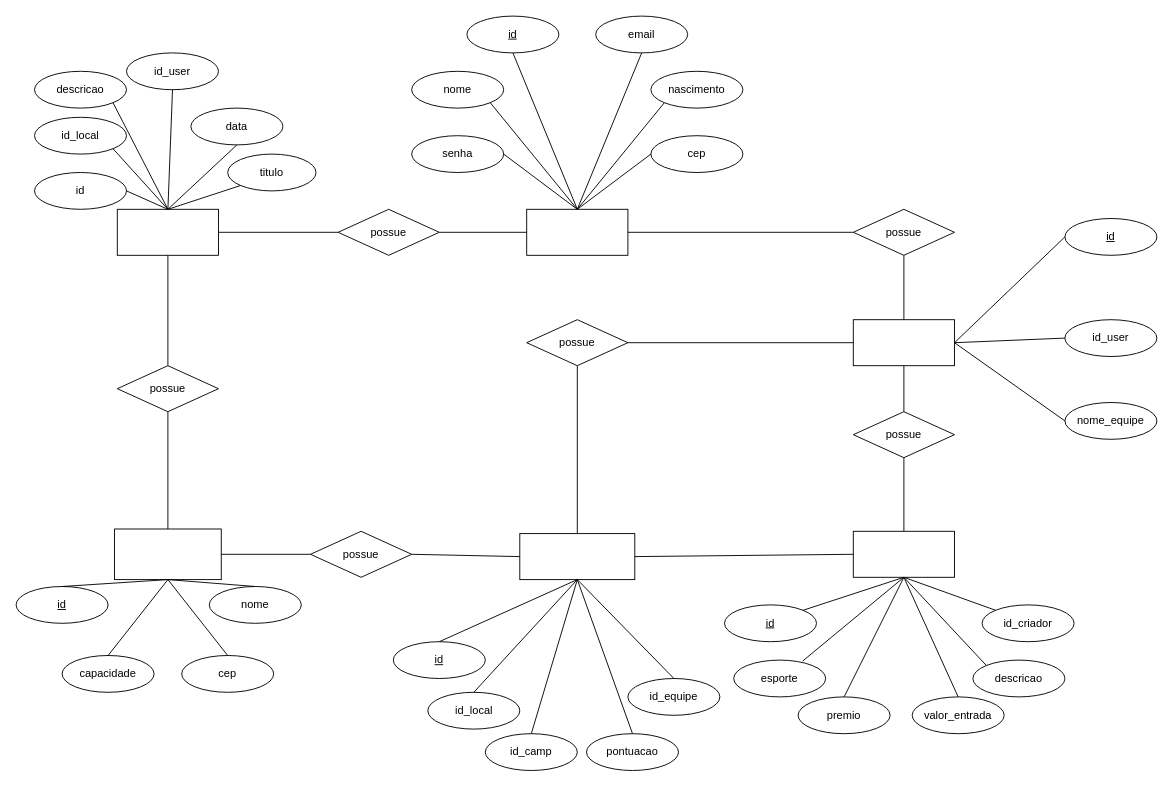
Some shapes in this 1173 by 787 pixel diagram are drawn without their labels. The shapes that lost their labels are listed below. From the top down, each one's centre as x and y in pixels, then its label:
point 167,231: encontro
point 577,231: usuario
point 903,342: equipe
point 167,554: local
point 577,556: partida_campeonato
point 903,553: campeonato
